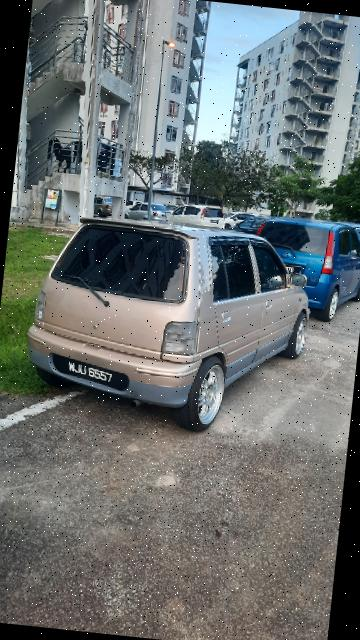License_Plate: (45, 351, 139, 396)
car: (17, 205, 329, 441)
